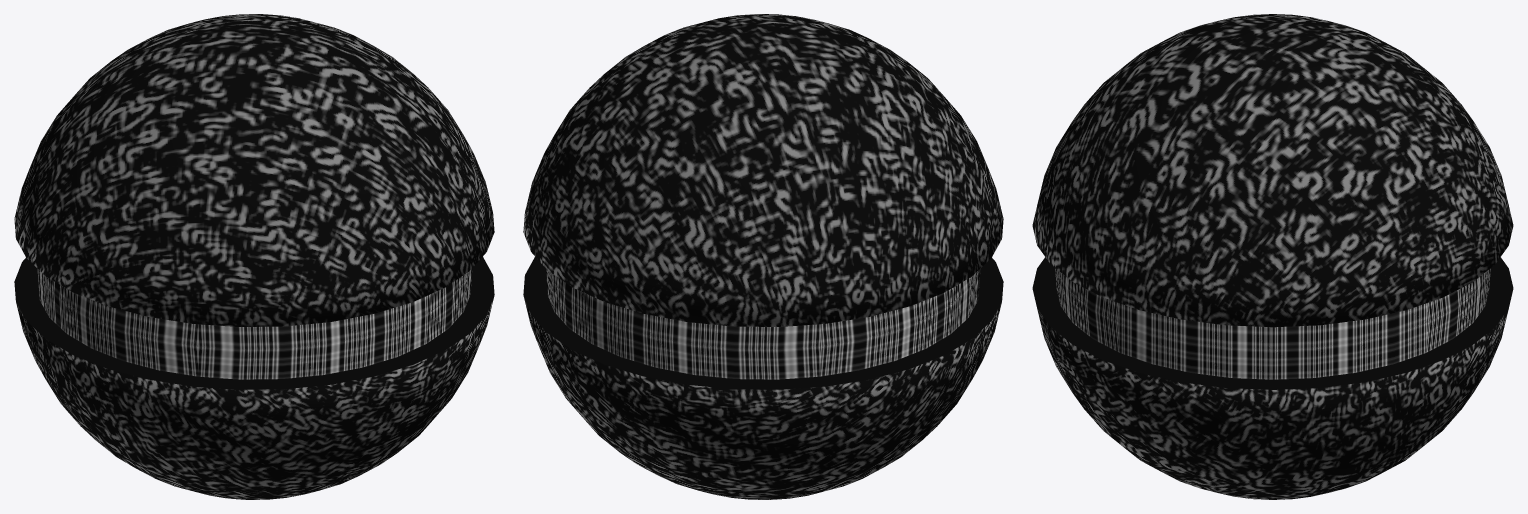
File: Orb.fbx
3 renders of one model, left to right at view 1: azimuth 30°, elevation 25°; view 2: azimuth 150°, elevation 25°; view 3: azimuth 270°, elevation 25°, orthographic.
Parts seen in each view (by area): view 1: Orb; view 2: Orb; view 3: Orb.
Part boxes in pixels (x1,y1,x2,y2): Orb: (14, 14, 494, 499); Orb: (523, 14, 1003, 499); Orb: (1032, 14, 1513, 499).
Bounding box in the file's own units: 49.49 × 50 × 49.49.
